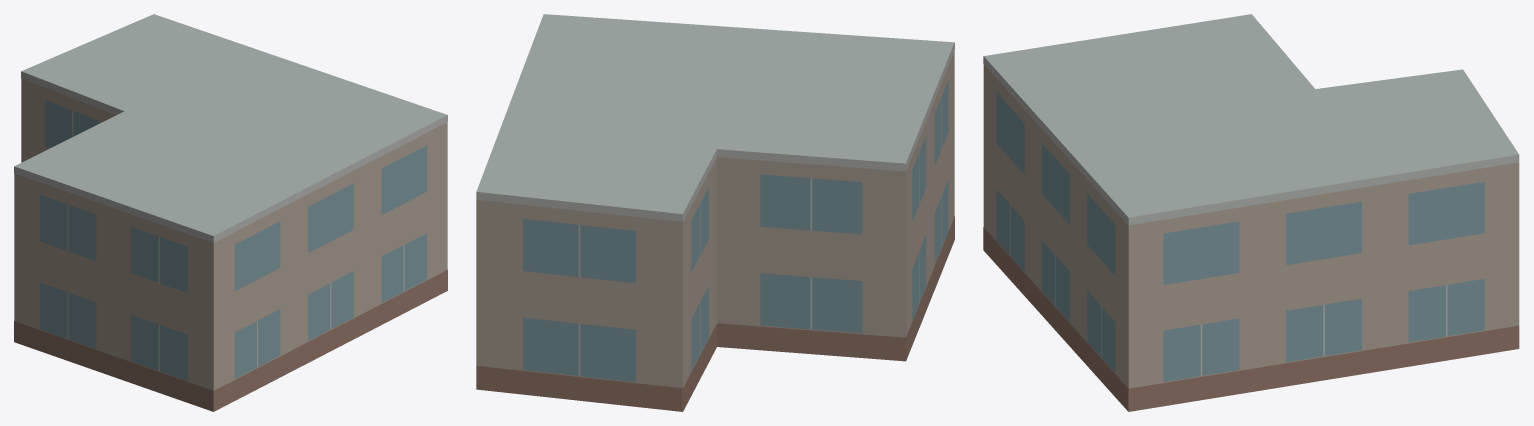
Rendered from survey-upis-33017668.glb.
3 renders of one model, left to right at view 1: azimuth 30°, elevation 25°; view 2: azimuth 150°, elevation 25°; view 3: azimuth 270°, elevation 25°, orthographic. The views are drawn at different scales.
Parts seen in each view (by area): view 1: survey-upis-33017668.tmp; view 2: survey-upis-33017668.tmp; view 3: survey-upis-33017668.tmp.
Part boxes in pixels (x1,y1,x2,y2): survey-upis-33017668.tmp: (14,14,447,411); survey-upis-33017668.tmp: (476,14,954,411); survey-upis-33017668.tmp: (983,14,1519,411).
Bounding box in the file's own units: 13.73 × 6.1 × 15.26.
